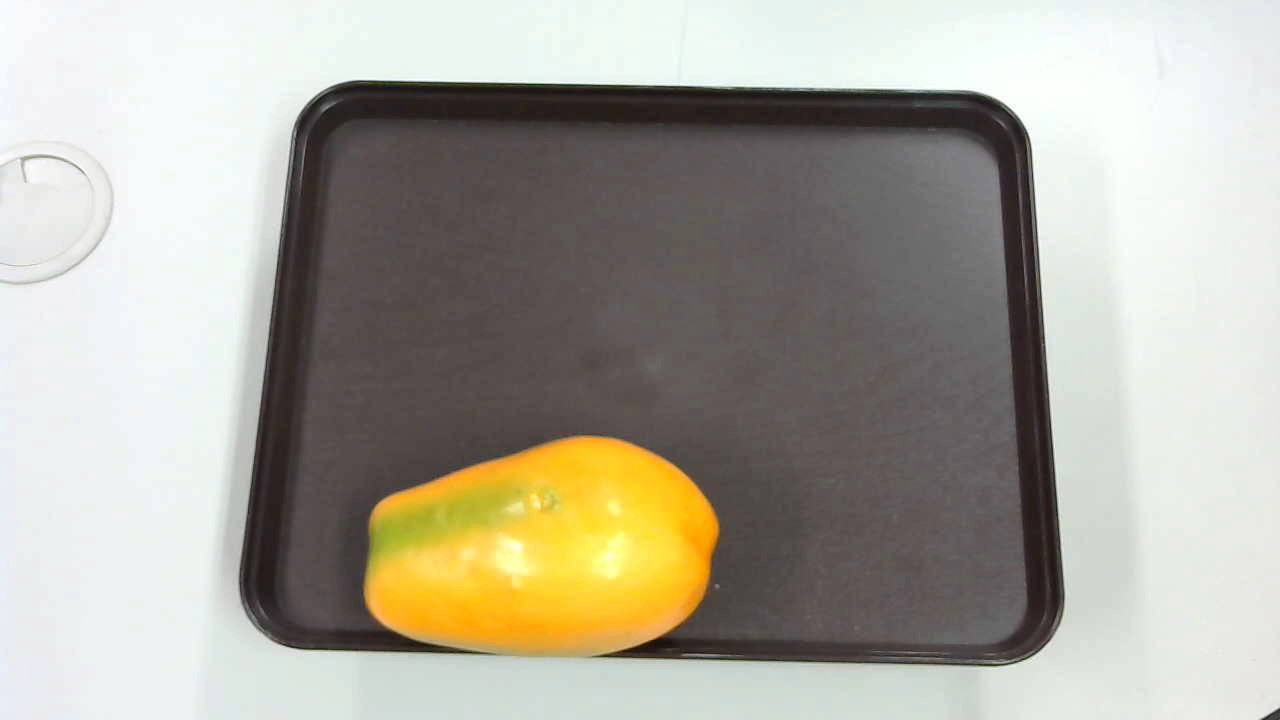papya: (357, 432, 725, 663)
